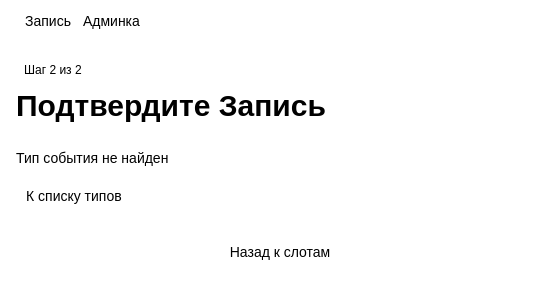
Test case: гостевой поток записи › неизвестный тип события — «Тип события не найден» и возврат к списку
Expected: the text "Тип события не найден" is shown, [16,150,168,166]
Click the link "К списку типов" at coordinates (74, 196), box [26,188,122,204]
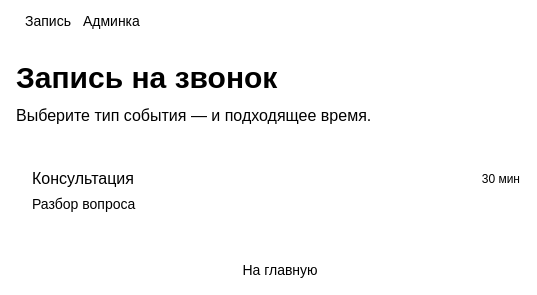
Expected: the heading "Запись на звонок" is shown, [16,61,277,94]
